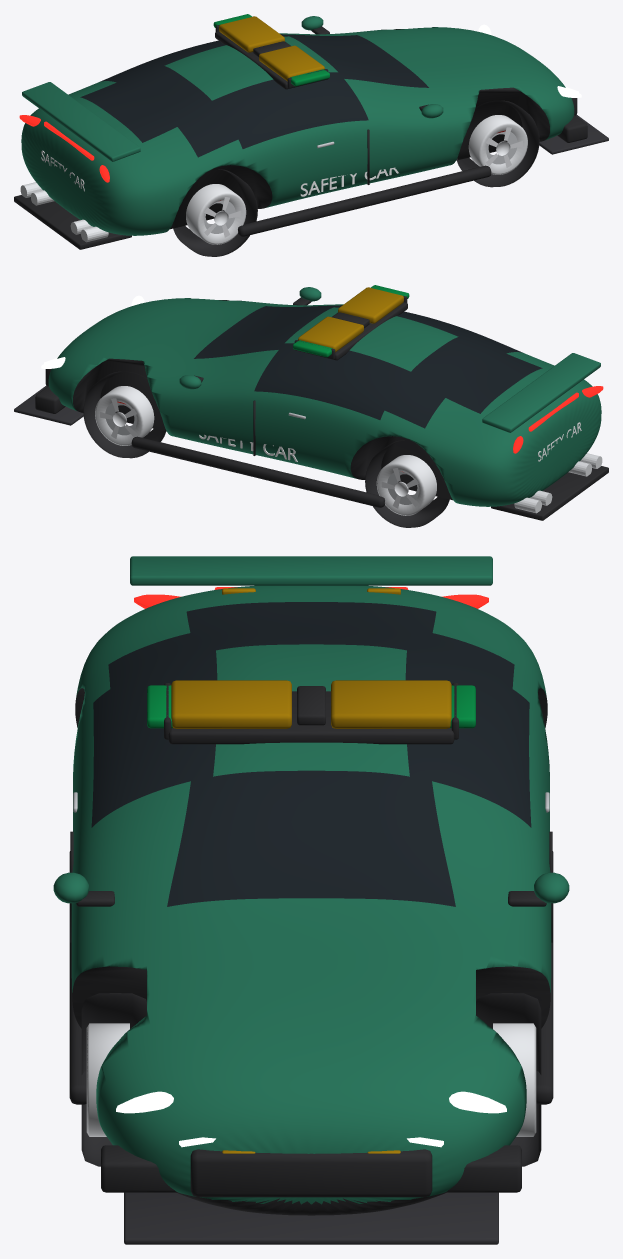
Rendered from safetycar.glb.
3 views of the same model, one above another, from view 1: azimuth 30°, elevation 25°; view 2: azimuth 150°, elevation 25°; view 3: azimuth 270°, elevation 25° (orthographic). The views are drawn at different scales.
Visible parts, largest first — view 1: SCBody, SCSpoiler, SCSkirt, RimRR, RimFR, SCDiffuser, TyreFR, TyreRR, SCBarAmber.001, SCBarAmber, SCSplitter, SCBarBase (+5 smaller); view 2: SCBody, SCSpoiler, SCSkirt.001, RimRL, RimFL, SCDiffuser, TyreFL, TyreRL, SCBarAmber, SCBarAmber.001, SCSplitter, SCBarBase (+5 smaller); view 3: SCBody, SCSplitter, SCGrille, SCSpoiler, SCBarAmber, SCBarAmber.001, SCBarBase, TyreFL, TyreFR, SCIntake, SCIntake.001, RimFL (+8 smaller).
Part boxes in pixels (<box>): SCBody: <box>21,27,574,235</box>; SCSpoiler: <box>22,82,140,161</box>; SCSkirt: <box>238,165,491,236</box>; RimRR: <box>186,184,246,244</box>; RimFR: <box>468,115,527,174</box>; SCDiffuser: <box>14,195,131,249</box>; TyreFR: <box>456,100,539,187</box>; TyreRR: <box>173,169,257,256</box>; SCBarAmber.001: <box>219,16,284,52</box>; SCBarAmber: <box>259,45,324,81</box>; SCSplitter: <box>539,115,608,154</box>; SCBarBase: <box>215,31,328,89</box>; SCBody: <box>48,298,601,506</box>; SCSpoiler: <box>482,353,600,432</box>; SCSkirt.001: <box>131,436,384,507</box>; RimRL: <box>376,455,436,515</box>; RimFL: <box>95,386,154,445</box>; SCDiffuser: <box>491,466,608,520</box>; TyreFL: <box>83,371,166,458</box>; TyreRL: <box>365,440,449,527</box>; SCBarAmber: <box>338,287,403,323</box>; SCBarAmber.001: <box>298,316,363,352</box>; SCSplitter: <box>14,386,83,425</box>; SCBarBase: <box>294,302,407,360</box>; SCBody: <box>71,585,551,1215</box>; SCSplitter: <box>124,1192,498,1244</box>; SCGrille: <box>190,1149,432,1197</box>; SCSpoiler: <box>130,556,492,585</box>; SCBarAmber: <box>171,680,291,728</box>; SCBarAmber.001: <box>331,680,451,728</box>; SCBarBase: <box>168,691,454,744</box>; TyreFL: <box>476,993,541,1166</box>; TyreFR: <box>81,993,146,1166</box>; SCIntake: <box>101,1145,177,1192</box>; SCIntake.001: <box>445,1145,521,1192</box>; RimFL: <box>493,1023,536,1136</box>.
Bounding box in the file's own units: 4.93 × 1.32 × 2.13.
